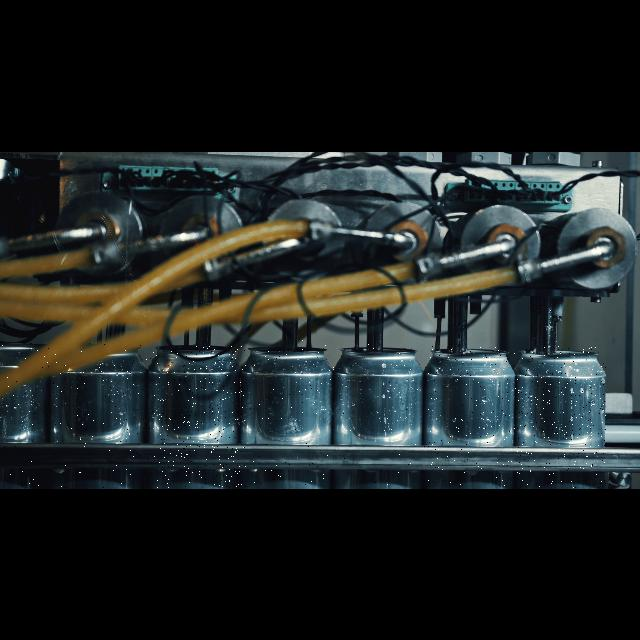empty: (150, 346, 246, 488), (60, 342, 150, 488), (514, 346, 606, 488), (338, 344, 426, 488), (250, 340, 334, 488), (428, 346, 512, 488), (0, 342, 60, 488)
